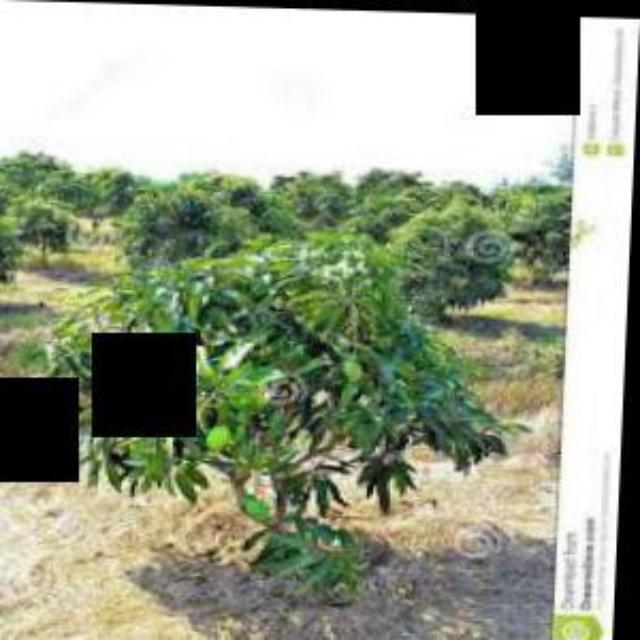tree: (9, 216, 525, 602)
